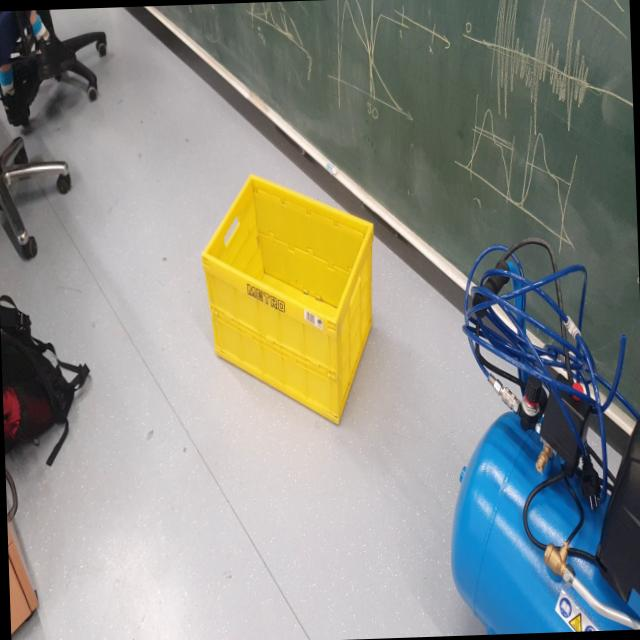box: (198, 167, 386, 464)
